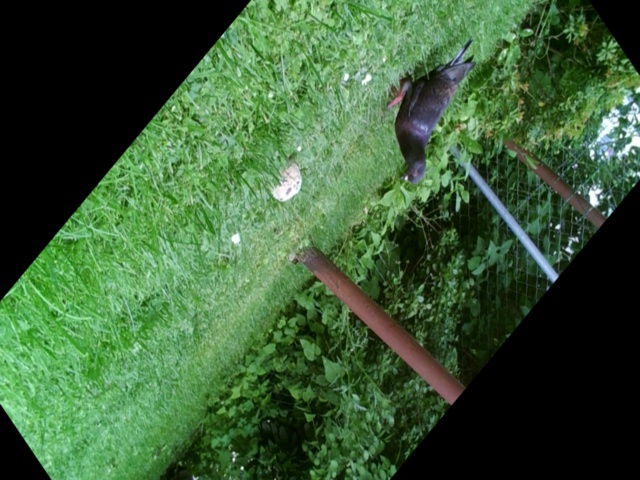Pigeon: (384, 34, 482, 186)
